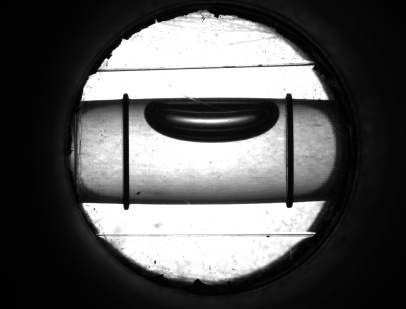line: (280, 119, 298, 188), (119, 114, 134, 188)
